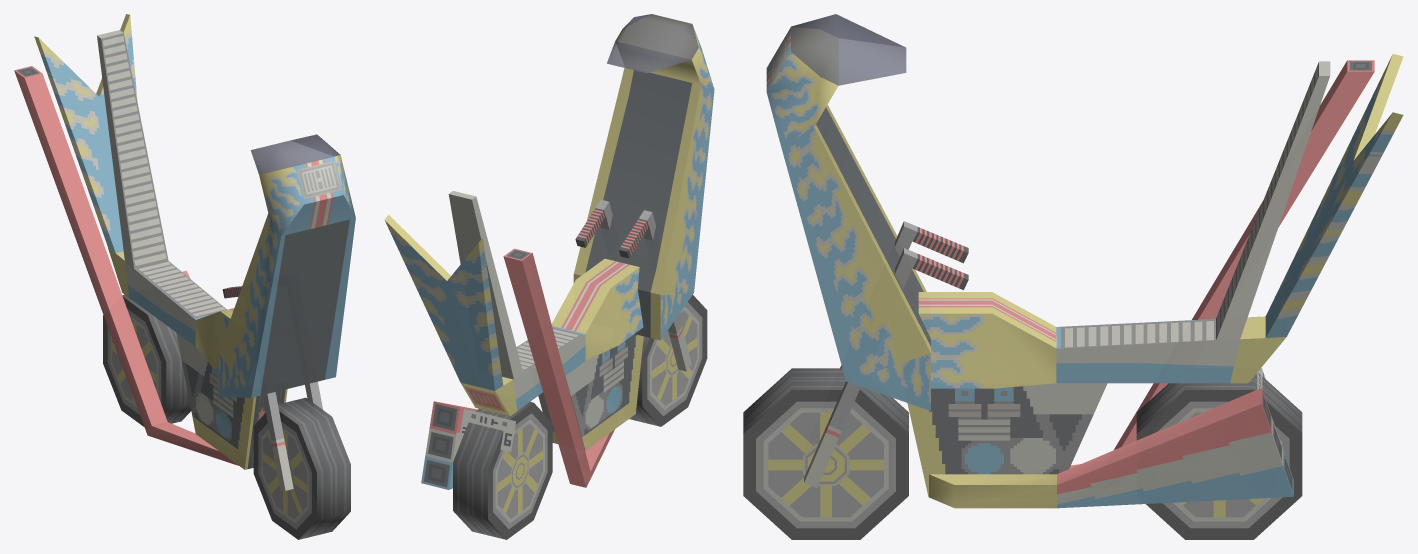
The model's file is 01b3_Chopper_2.glb.
3 renders of one model, left to right at view 1: azimuth 30°, elevation 25°; view 2: azimuth 150°, elevation 25°; view 3: azimuth 270°, elevation 25°, orthographic. The views are drawn at different scales.
Parts seen in each view (by area): view 1: part_0, part_1, part_2; view 2: part_0, part_2, part_1; view 3: part_0, part_1, part_2.
Part boxes in pixels (bbox=[...]): part_0: bbox=[14, 14, 355, 490]; part_1: bbox=[253, 397, 350, 539]; part_2: bbox=[103, 294, 191, 426]; part_0: bbox=[384, 14, 714, 489]; part_2: bbox=[453, 401, 552, 539]; part_1: bbox=[629, 295, 707, 426]; part_0: bbox=[766, 14, 1403, 508]; part_1: bbox=[743, 368, 908, 539]; part_2: bbox=[1136, 373, 1302, 539].
Bounding box in the file's own units: 0.6099 × 1.73 × 2.06.
3 materials, 3 textured.
